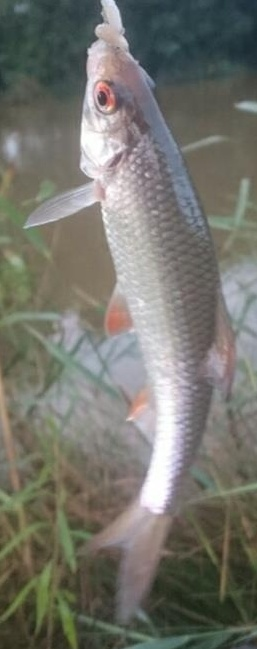Rutilus rutilus: (20, 20, 237, 629)
